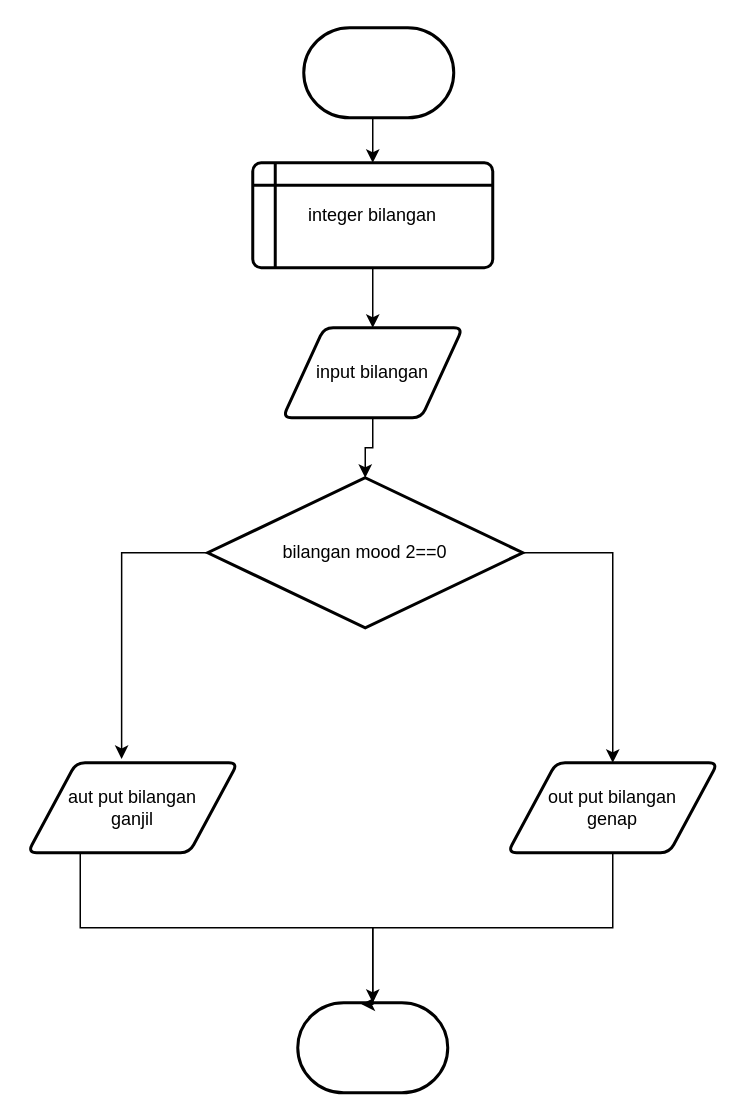
Image size: 744x1119. Some labels were removed from this diagram. Here are the shapes that lost their labels. From the top down, the box of each, then its label:
(302, 26, 454, 118): star
(296, 1000, 448, 1094): end
